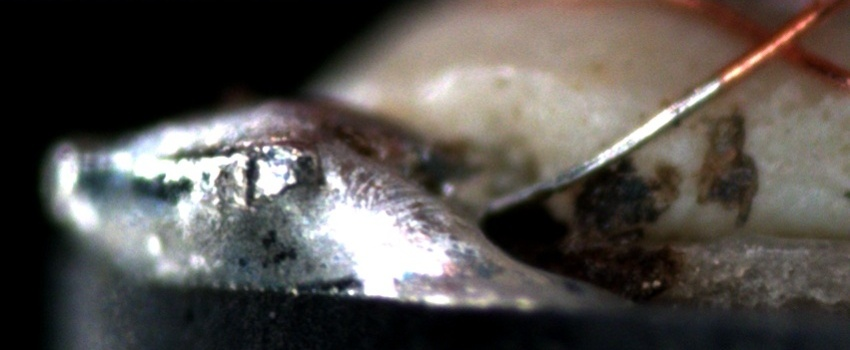CL: (738, 14, 819, 72)
TS: (479, 76, 727, 215)
